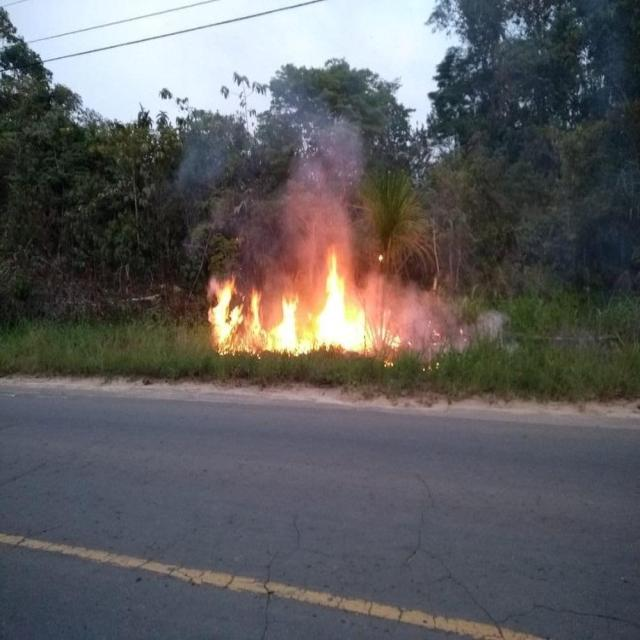Fire: (208, 240, 371, 360)
